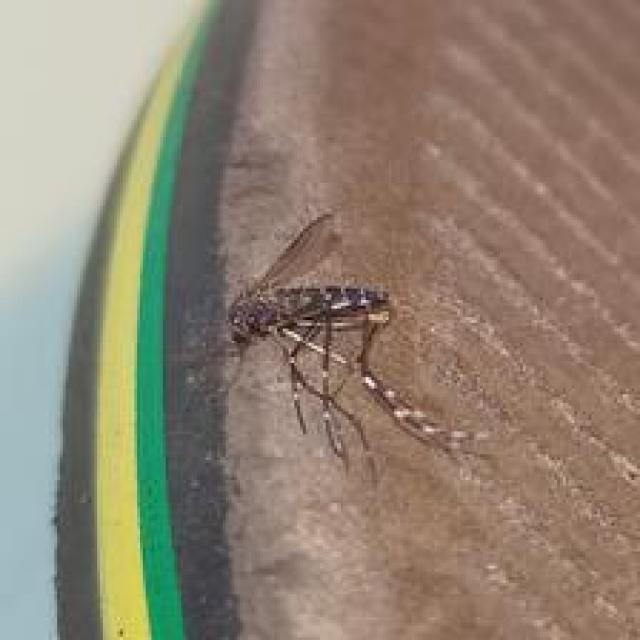Aedes albopictus: (218, 208, 493, 486)
